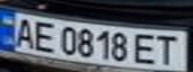0: (54, 24, 78, 56)
1: (93, 28, 112, 61)
8: (109, 29, 133, 63), (75, 25, 93, 58)
A: (9, 16, 39, 48)
E: (130, 30, 163, 66), (30, 19, 60, 52)
T: (151, 32, 187, 66)
